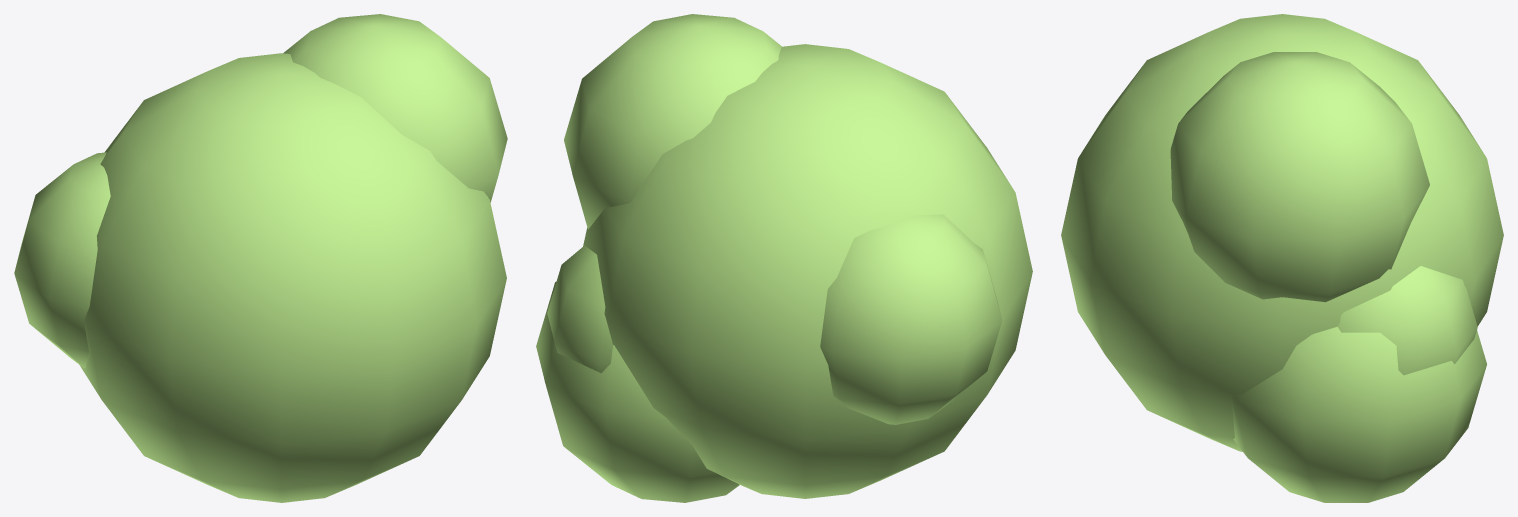
Rendered from StickyBomb.fbx.
3 renders of one model, left to right at view 1: azimuth 30°, elevation 25°; view 2: azimuth 150°, elevation 25°; view 3: azimuth 270°, elevation 25°, orthographic. The views are drawn at different scales.
Visible parts, largest first — view 1: sticky; view 2: sticky; view 3: sticky.
Part boxes in pixels (x1,y1,x2,y2): sticky: (14, 14, 507, 502); sticky: (536, 14, 1032, 502); sticky: (1061, 14, 1503, 502).
Bounding box in the file's own units: 0.3271 × 0.3223 × 0.3.
